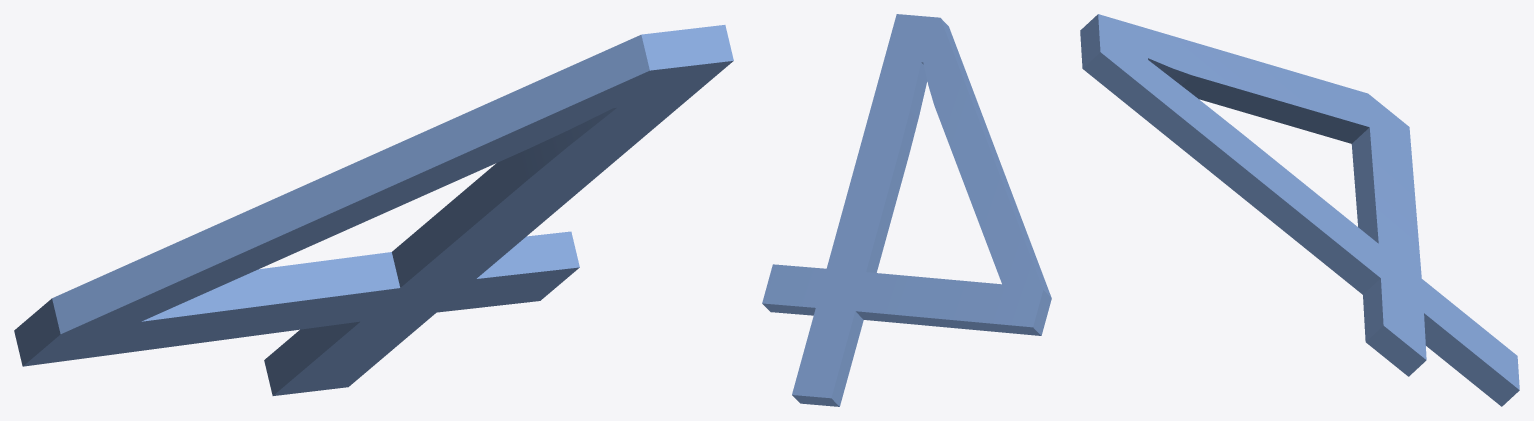
File: New_Number_4.gltf
3 renders of one model, left to right at view 1: azimuth 30°, elevation 25°; view 2: azimuth 150°, elevation 25°; view 3: azimuth 270°, elevation 25°, orthographic. The views are drawn at different scales.
Parts seen in each view (by area): view 1: Part 247; view 2: Part 247; view 3: Part 247.
Boxes of the visible parts, x1=… form: Part 247: x1=14, y1=25, x2=733, y2=395; Part 247: x1=762, y1=14, x2=1051, y2=406; Part 247: x1=1080, y1=14, x2=1519, y2=406.
Bounding box in the file's own units: 0.00415 × 0.0041 × 0.00413.
